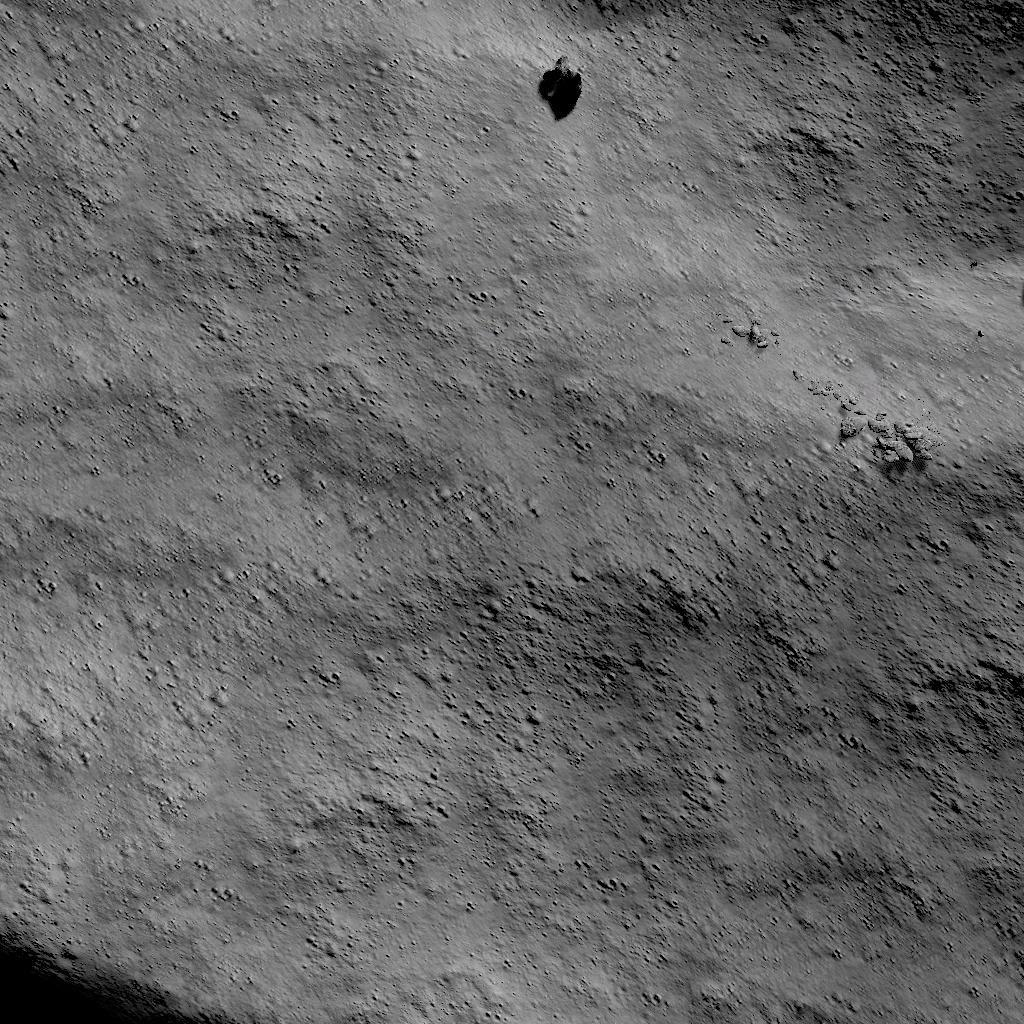Plan surface: (1, 0, 505, 897), (537, 180, 1008, 1020), (621, 2, 1024, 149)
